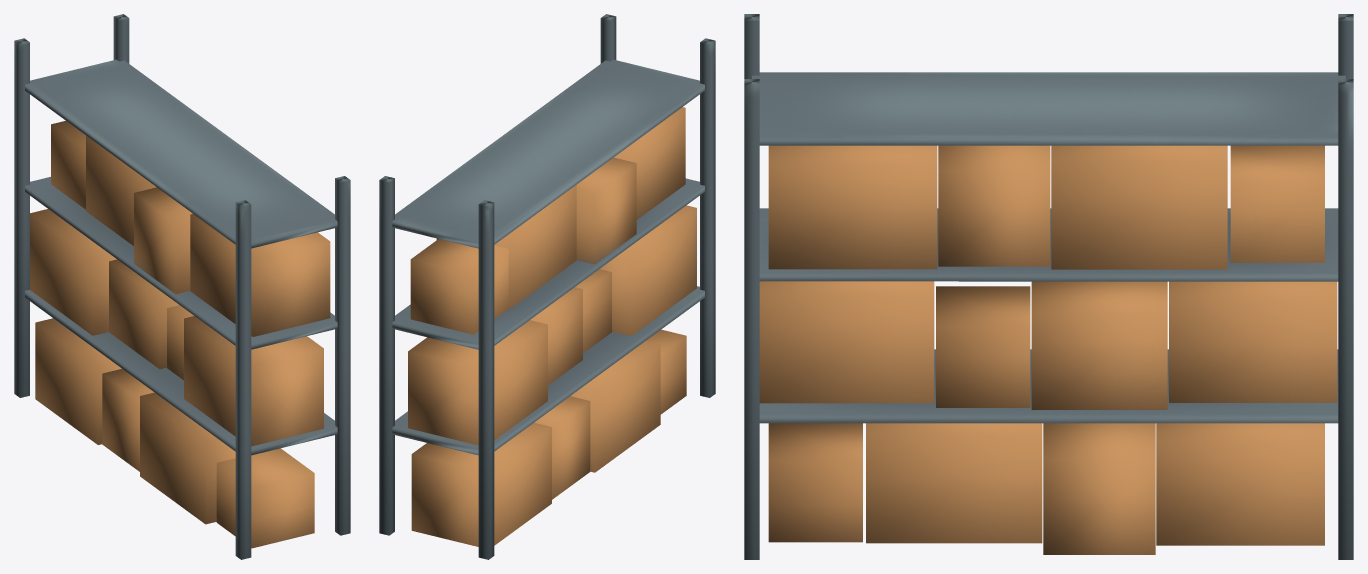
The model's file is MESH_Shelf.fbx.
The picture shows the model from 3 angles, left to right: view 1: azimuth 30°, elevation 25°; view 2: azimuth 150°, elevation 25°; view 3: azimuth 270°, elevation 25°; orthographic projection. The views are drawn at different scales.
Visible parts, largest first — view 1: MESH_Shelf; view 2: MESH_Shelf; view 3: MESH_Shelf.
Boxes of the visible parts, x1,y1,x2,y2 form: MESH_Shelf: (14, 14, 350, 559); MESH_Shelf: (379, 14, 715, 559); MESH_Shelf: (744, 14, 1353, 559).
Size of the model in its own units: 165 by 510 by 594.
